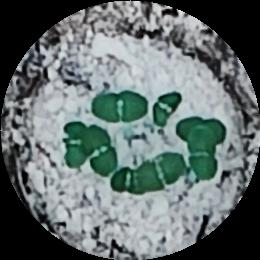Basil: (87, 87, 150, 125), (83, 126, 120, 178), (179, 115, 229, 145), (142, 154, 187, 186), (59, 123, 88, 171), (193, 134, 221, 183), (149, 92, 186, 123), (111, 171, 149, 196)
